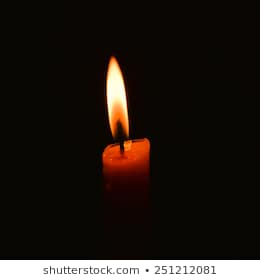Fire: (102, 53, 136, 146)
